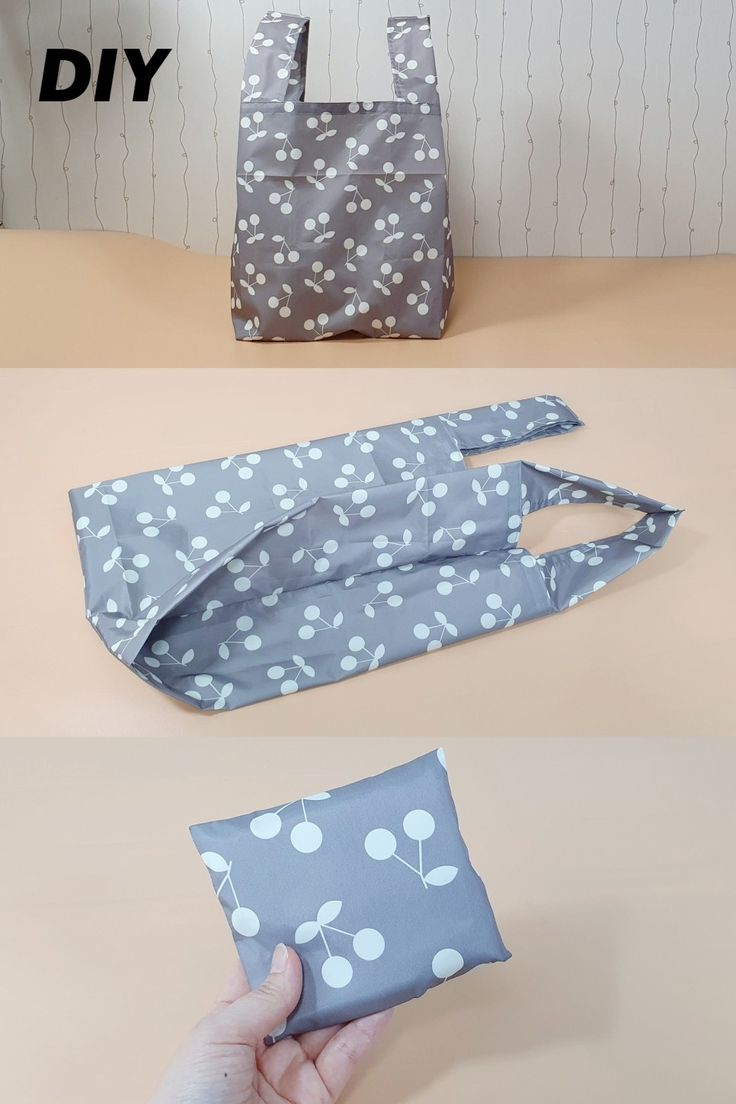nylon: (71, 13, 682, 1048)
